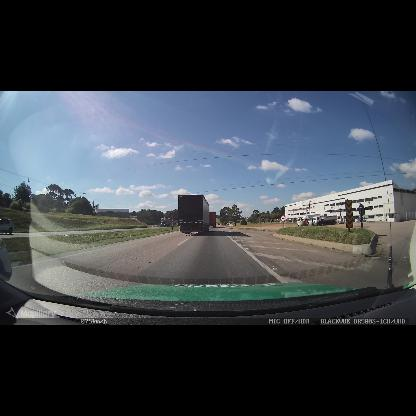O-MP: (344, 199, 353, 228)
R-2: (261, 217, 265, 221)
R-24a: (281, 215, 286, 222)
